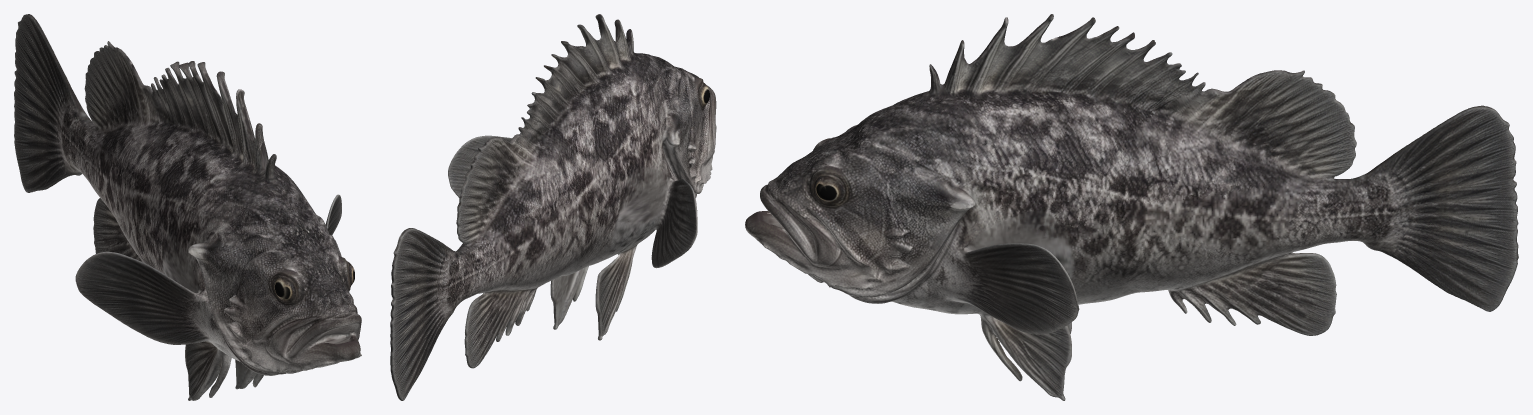
File: kurosoi.glb
3 views of the same model, side by side, from view 1: azimuth 30°, elevation 25°; view 2: azimuth 150°, elevation 25°; view 3: azimuth 270°, elevation 25° (orthographic). The views are drawn at different scales.
Bounding box in the file's own units: 0.8611 × 1.01 × 1.9.
1 material, 1 textured.
